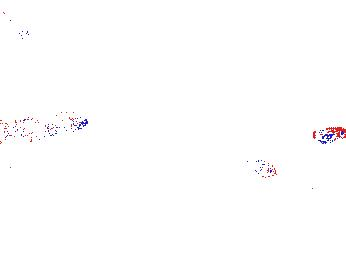red belly glassfish: (240, 154, 277, 178), (312, 126, 346, 147)
redtail glassfish: (1, 114, 89, 150), (1, 16, 43, 42)
